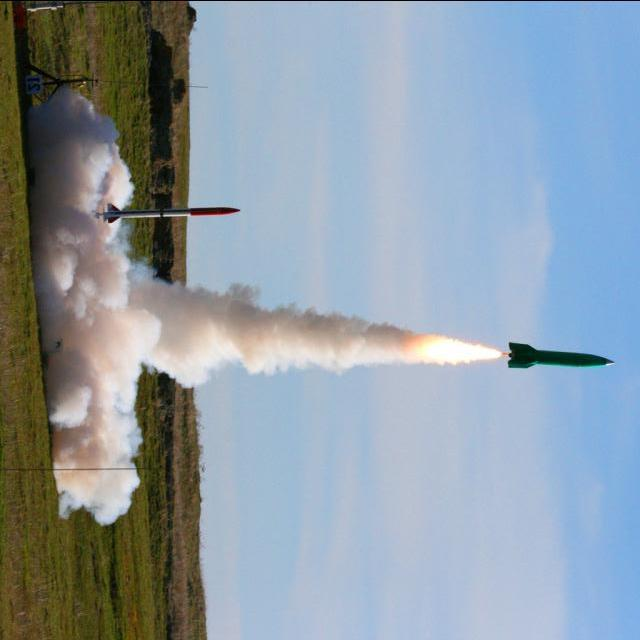missile: (506, 343, 618, 367), (103, 204, 240, 221)
